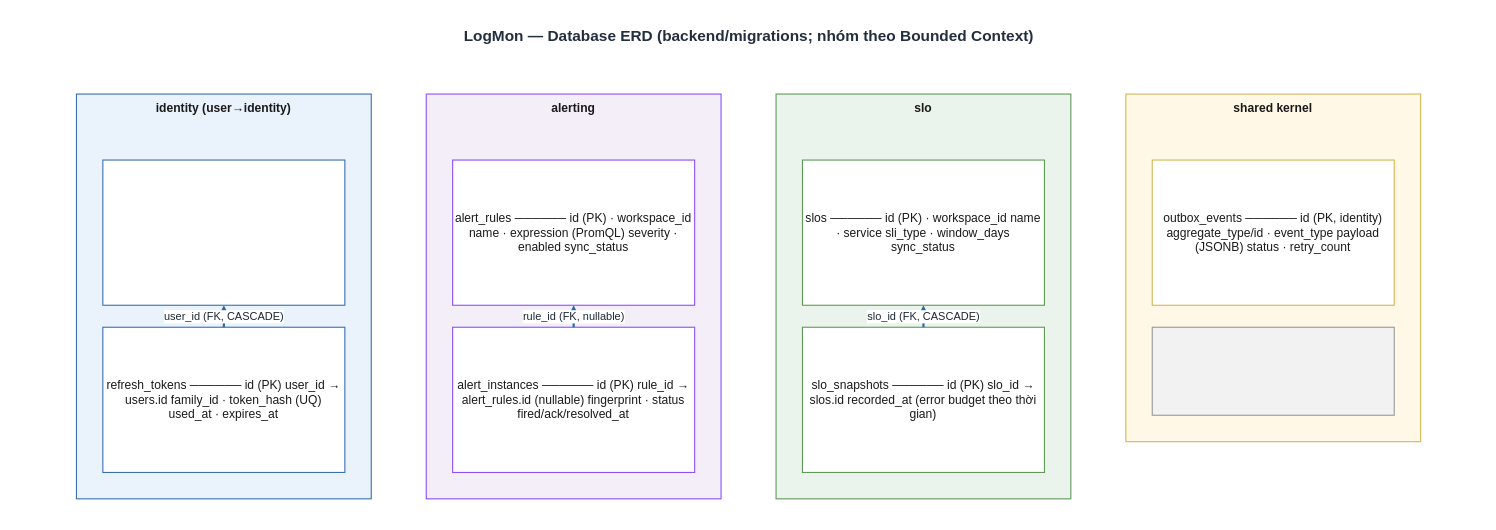
The diagram is 1496 pixels wide and 530 high, and some of its shapes have lost their labels. The shapes that lost their labels are listed below. From the top down, each one's centre as x and y in pixels, then its label:
[223,232]: users ────── id (PK, TEXT) email (UNIQUE) password_hash (argon2id) created_at
[1272,370]: workspaces (planned) workspace_id ở các bảng = khóa tenant (identity BC, GĐ3)
